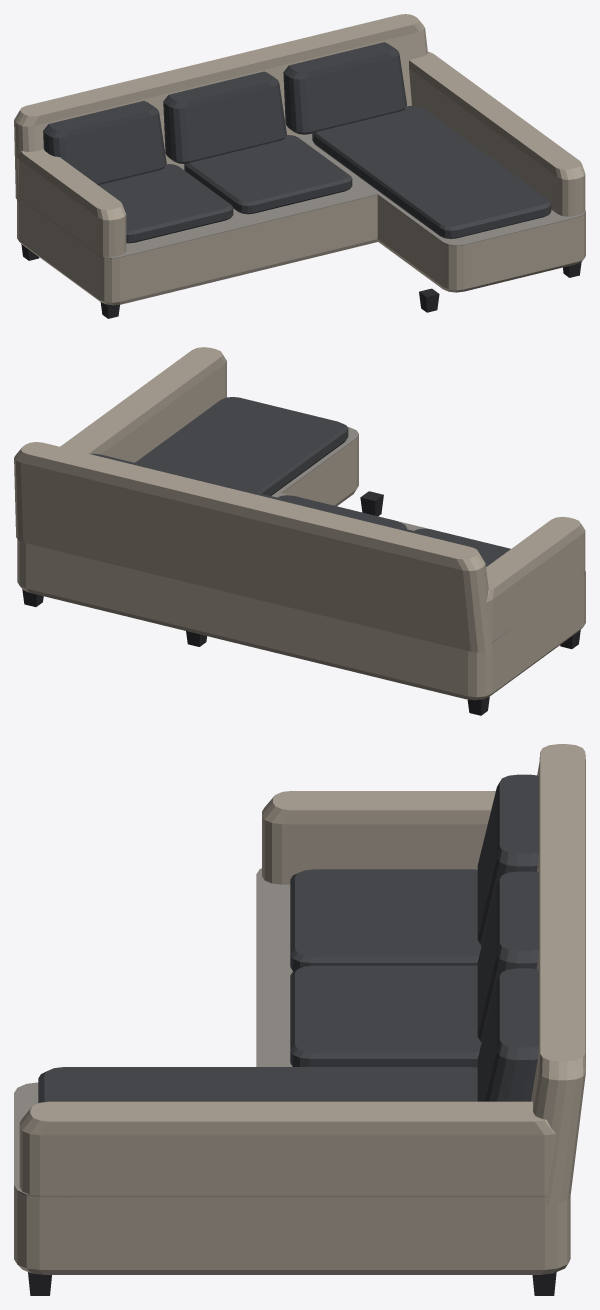
File: FN_Sofa_Corner.obj
3 views of the same model, one above another, from view 1: azimuth 30°, elevation 25°; view 2: azimuth 150°, elevation 25°; view 3: azimuth 270°, elevation 25° (orthographic). The views are drawn at different scales.
Visible parts, largest first — view 1: FN_Sofa_Corner; view 2: FN_Sofa_Corner; view 3: FN_Sofa_Corner.
Part boxes in pixels (x1,y1,x2,y2): FN_Sofa_Corner: [14, 14, 585, 318]; FN_Sofa_Corner: [14, 347, 585, 715]; FN_Sofa_Corner: [14, 744, 585, 1295].
Bounding box in the file's own units: 2.4 × 0.784 × 1.75.
1 material, 1 textured.
